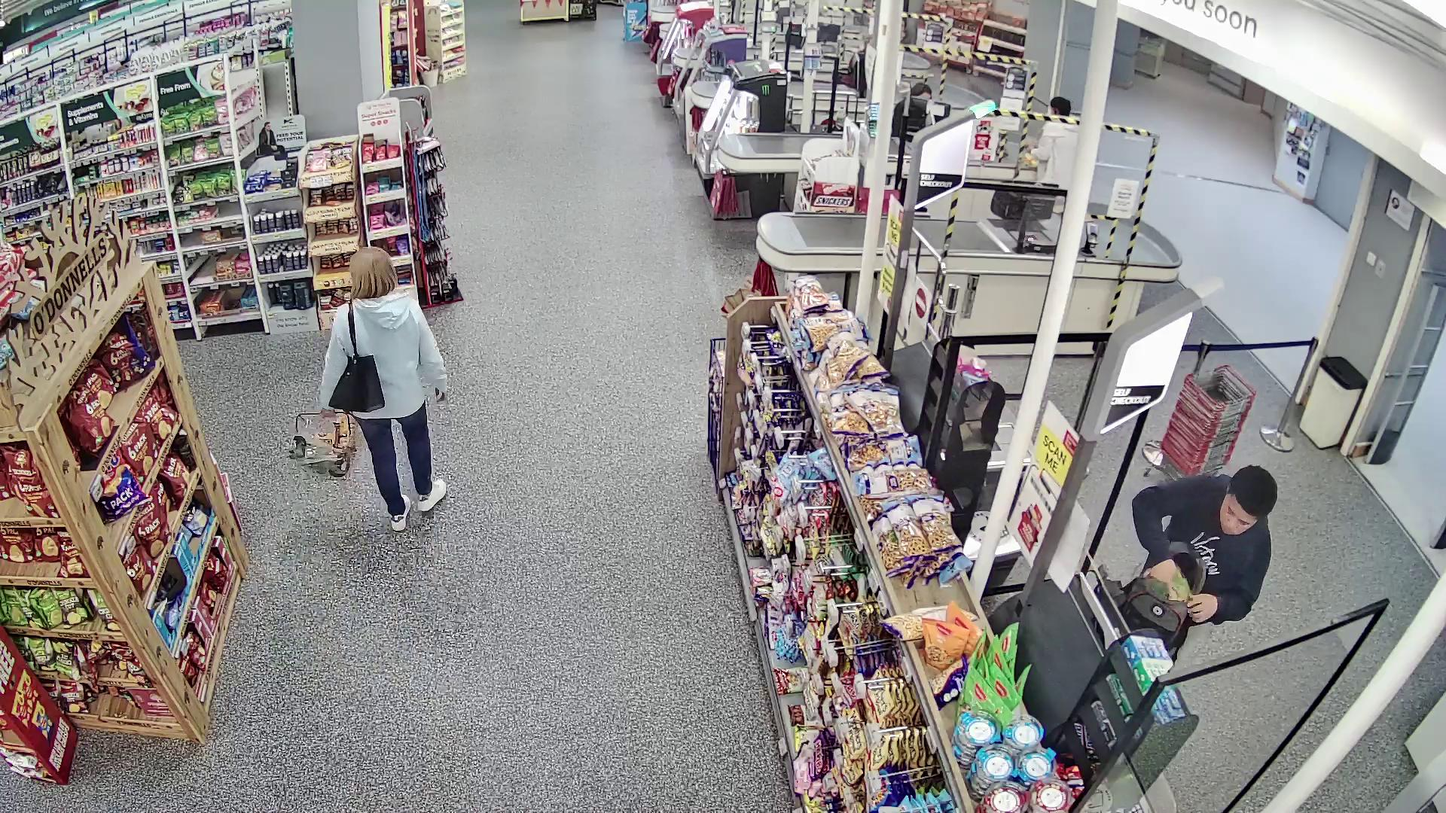backpack-or-handbag: (323, 350, 385, 412)
filled-basket: (288, 409, 360, 482)
person: (320, 245, 449, 532)
person-with-basket-trolly-and-backpack-handbag: (288, 245, 449, 530)
